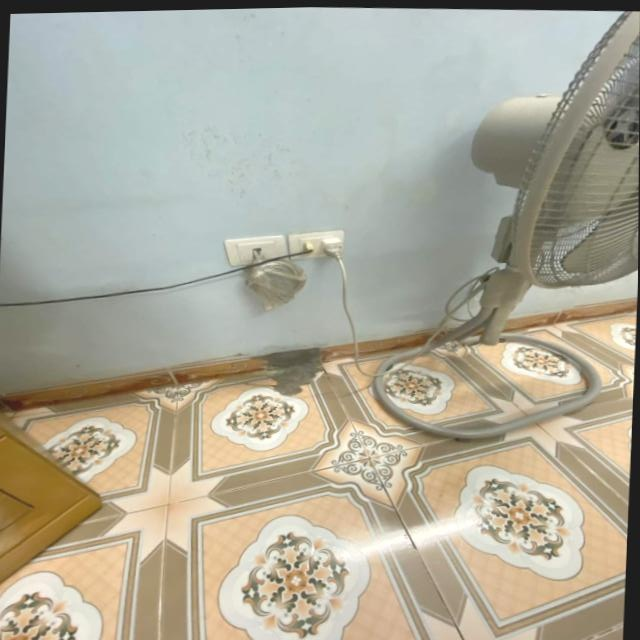outlet: (224, 233, 290, 268), (288, 227, 346, 262)
